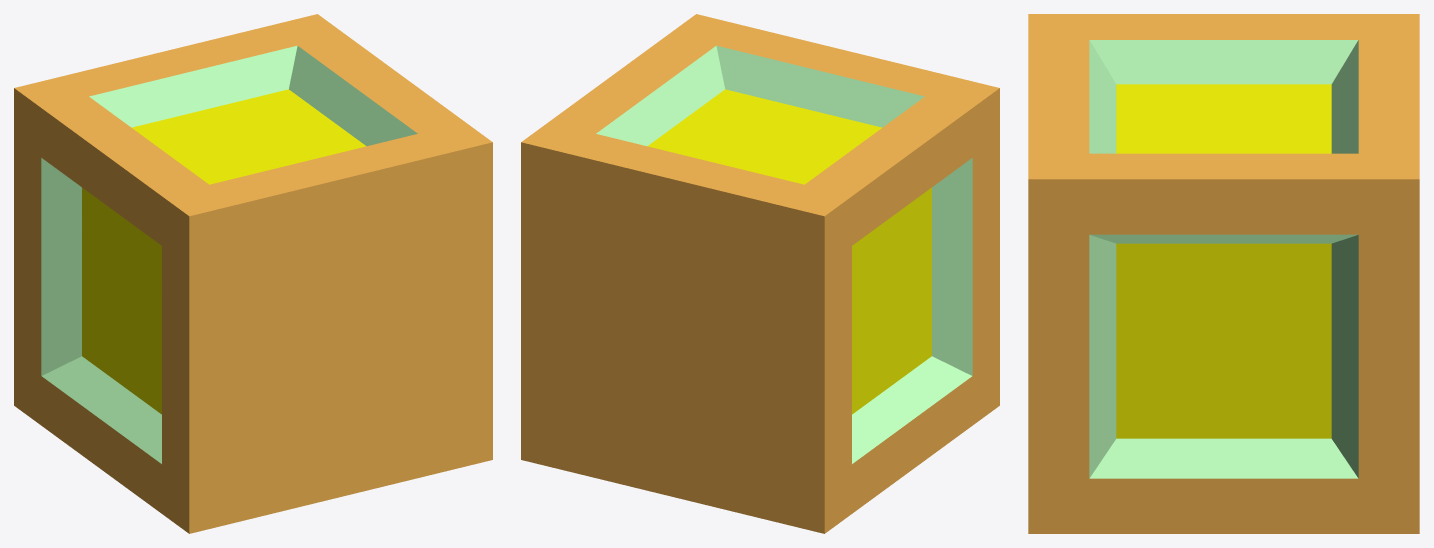
File: AnswerBox.fbx
3 views of the same model, side by side, from view 1: azimuth 30°, elevation 25°; view 2: azimuth 150°, elevation 25°; view 3: azimuth 270°, elevation 25° (orthographic). The views are drawn at different scales.
Parts seen in each view (by area): view 1: AnswerBox; view 2: AnswerBox; view 3: AnswerBox.
Boxes of the visible parts, x1,y1,x2,y2 form: AnswerBox: [14, 14, 492, 533]; AnswerBox: [521, 14, 999, 533]; AnswerBox: [1028, 14, 1419, 533].
Bounding box in the file's own units: 1.6 × 1.6 × 1.6.
